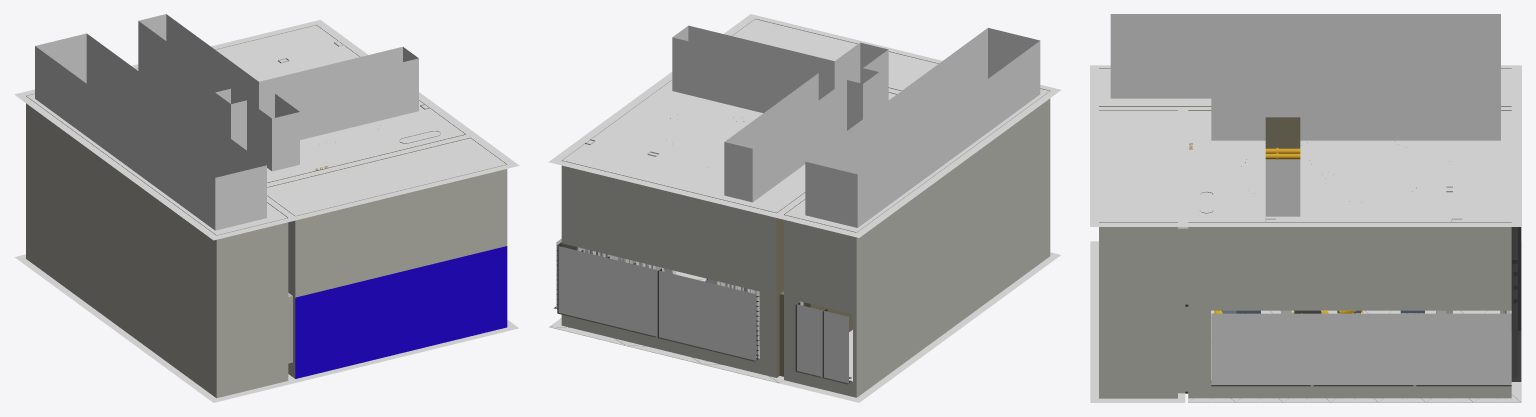
3 renders of one model, left to right at view 1: azimuth 30°, elevation 25°; view 2: azimuth 150°, elevation 25°; view 3: azimuth 270°, elevation 25°, orthographic. The views are drawn at different scales.
Visible parts, largest first — view 1: Cube.007, Cube.016, Cube.015; view 2: Cube.007, Plane.006, Plane.020, Cube.015, Cube.000, Cube.018; view 3: Cube.007, Plane.005, Cube.000, Cube.018, Cube.015.
Boxes of the visible parts, x1,y1,x2,y2 form: Cube.007: (14,14,519,398); Cube.016: (295,246,507,378); Cube.015: (14,254,518,402); Cube.007: (548,14,1061,397); Plane.006: (558,246,756,360); Plane.020: (797,304,848,383); Cube.015: (549,252,1060,402); Cube.000: (549,270,783,383); Cube.018: (554,242,759,361); Cube.007: (1090,14,1521,398); Plane.005: (1211,313,1511,384); Cube.000: (1188,310,1521,402); Cube.018: (1211,227,1521,386); Cube.015: (1090,241,1521,402).
Bounding box in the file's own units: 3294 × 2217 × 3715.
